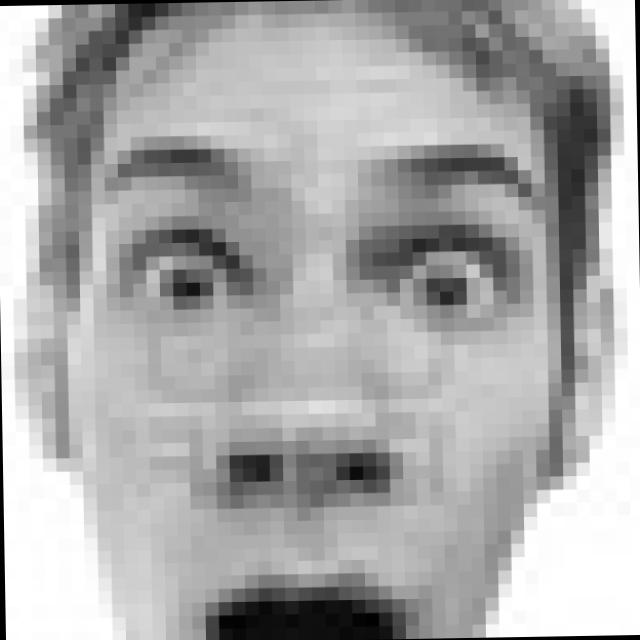surprise: (90, 137, 545, 640)
